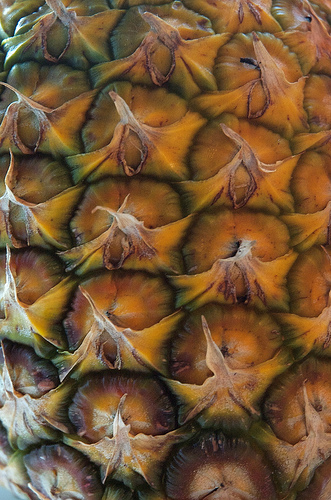pineapple: (0, 0, 329, 498)
